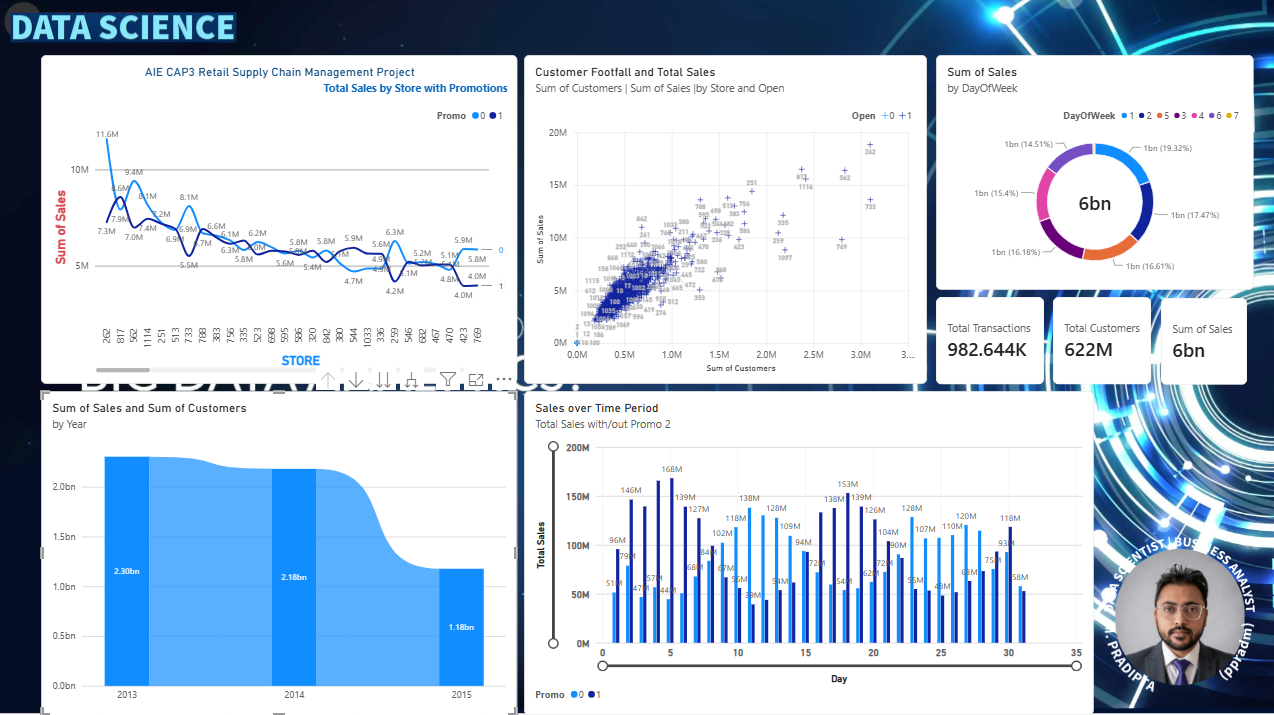

The dashboard page shown, as its layout file describes it:
{"tool":"powerbi","page":{"name":"Page 1","canvas":[1920,1080],"ordinal":0},"visuals":[{"type":"lineChart","title":"AIE CAP3 Retail Supply Chain Management Project","fields":{"Category":["train_data.Store"],"Series":["train_data.Promo"],"Y":["Sum(train_data.Sales)"]},"box":[69.2,90.4,714.2,493.4],"z":0},{"type":"cardVisual","title":"Total Customers","fields":{"Data":["Sum(train_data.Customers)"]},"box":[1585.4,452.2,147.6,131.7],"z":1},{"type":"scatterChart","title":"Customer Footfall and Total Sales","fields":{"Category":["train_data.Store"],"Series":["train_data.Open"],"X":["Sum(train_data.Customers)"],"Y":["Sum(train_data.Sales)"]},"box":[792.7,90.4,603.8,493.4],"z":2},{"type":"cardVisual","fields":{"Data":["CountNonNull(train_data.Customers)"]},"box":[1409.9,452.2,162.3,131.7],"z":3},{"type":"donutChart","fields":{"Category":["train_data.DayOfWeek","train_data.Open","train_data.SchoolHoliday","train_data.StateHoliday"],"Y":["Sum(train_data.Sales)"]},"box":[1409.9,90.4,476.2,352.5],"z":4},{"type":"cardVisual","fields":{"Data":["Sum(train_data.Sales)"]},"box":[1747.7,453.5,129,130.3],"z":5},{"type":"ribbonChart","fields":{"Category":["train_data.Date.Variation.Date Hierarchy.Year","train_data.Date.Variation.Date Hierarchy.Quarter","train_data.Date.Variation.Date Hierarchy.Month","train_data.Date.Variation.Date Hierarchy.Day"],"Y":["Sum(train_data.Sales)"]},"box":[69,593,714,487],"z":6},{"type":"clusteredColumnChart","title":"Sales over Time Period","fields":{"Category":["train_data.Date.Variation.Date Hierarchy.Year","train_data.Date.Variation.Date Hierarchy.Quarter","train_data.Date.Variation.Date Hierarchy.Month","train_data.Date.Variation.Date Hierarchy.Day"],"Series":["train_data.Promo"],"Y":["Sum(train_data.Sales)"]},"box":[793.1,593.1,854.1,486.4],"z":7}]}

Visuals, with their boxes in screenshot pixels (x1, y1, x2, y2), scaled from the page's 1920x1080 canvas onto the 1274x715 screenshot:
"AIE CAP3 Retail Supply Chain Management Project" lineChart: <region>46, 60, 520, 386</region>
"Total Customers" cardVisual: <region>1052, 299, 1150, 387</region>
"Customer Footfall and Total Sales" scatterChart: <region>526, 60, 927, 386</region>
cardVisual - CountNonNull(train_data.Customers): <region>936, 299, 1043, 387</region>
donutChart - train_data.DayOfWeek x train_data.Open: <region>936, 60, 1252, 293</region>
cardVisual - Sum(train_data.Sales): <region>1160, 300, 1245, 386</region>
ribbonChart - train_data.Date.Variation.Date Hierarchy.Year x train_data.Date.Variation.Date Hierarchy.Quarter: <region>46, 393, 520, 714</region>
"Sales over Time Period" clusteredColumnChart: <region>526, 393, 1093, 714</region>
